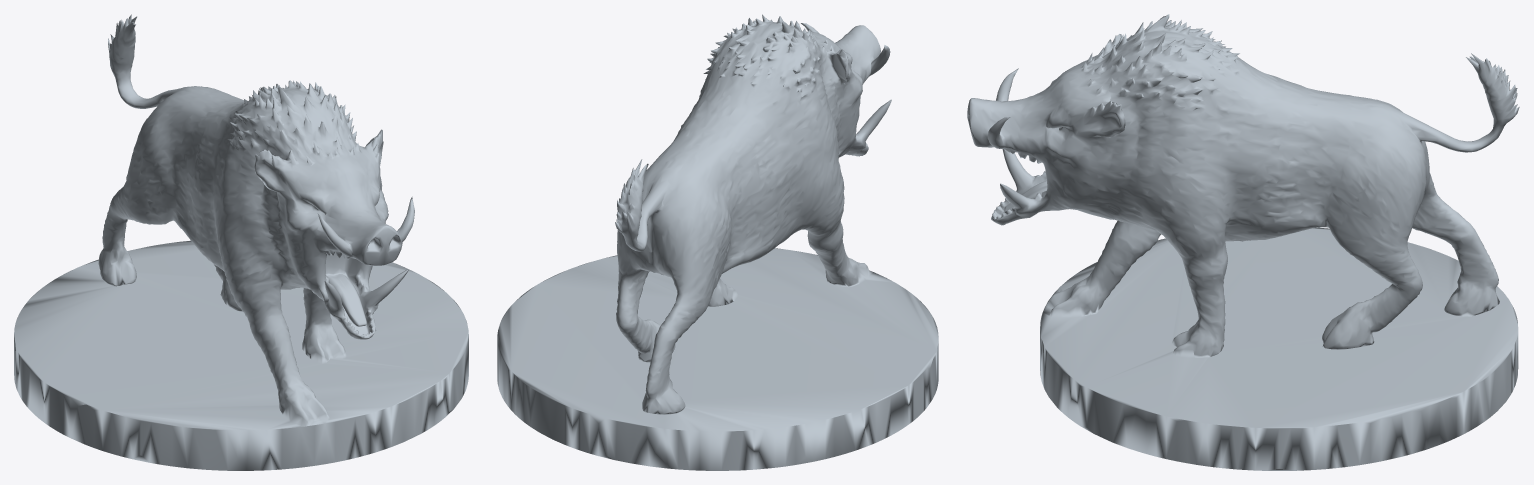
File: boar.glb
The picture shows the model from 3 angles, left to right: view 1: azimuth 30°, elevation 25°; view 2: azimuth 150°, elevation 25°; view 3: azimuth 270°, elevation 25°; orthographic projection. The views are drawn at different scales.
Parts seen in each view (by area): view 1: Boar_Updated1_SeamsColor.001; view 2: Boar_Updated1_SeamsColor.001; view 3: Boar_Updated1_SeamsColor.001.
Boxes of the visible parts, x1=… form: Boar_Updated1_SeamsColor.001: x1=14, y1=14, x2=468, y2=470; Boar_Updated1_SeamsColor.001: x1=497, y1=14, x2=938, y2=470; Boar_Updated1_SeamsColor.001: x1=967, y1=14, x2=1519, y2=470.
Bounding box in the file's own units: 25.25 × 20.32 × 29.18.
1 material, 1 textured.
